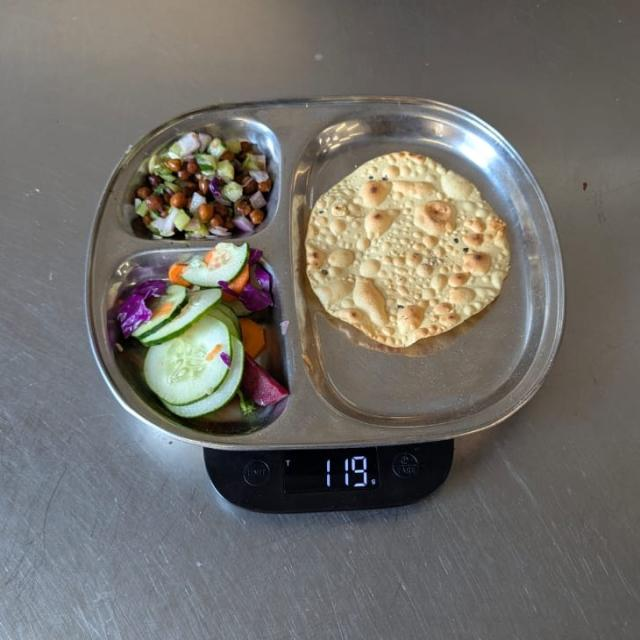Papad: (304, 152, 514, 356)
Salad: (106, 244, 294, 421), (126, 119, 278, 243)
